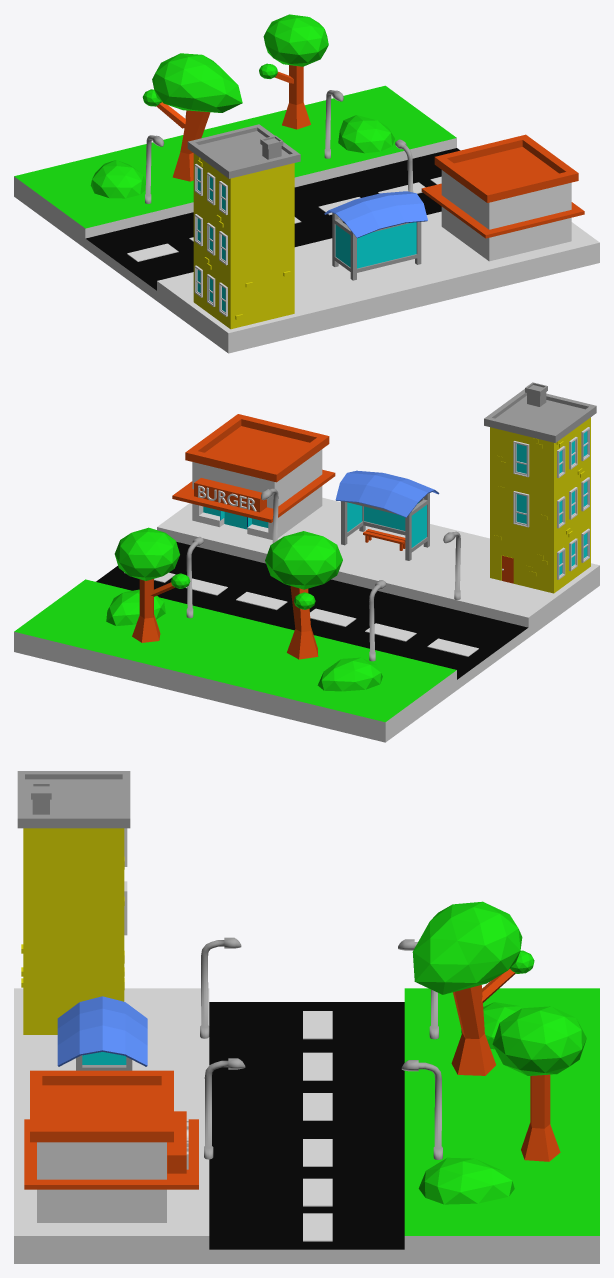
3 renders of one model, top to bottom at view 1: azimuth 30°, elevation 25°; view 2: azimuth 150°, elevation 25°; view 3: azimuth 270°, elevation 25°, orthographic. The views are drawn at different scales.
Parts seen in each view (by area): view 1: Cube.007; view 2: Cube.007, Text.003; view 3: Cube.007.
Part boxes in pixels (box(x1,y1,x2,y2)): Cube.007: box(14, 14, 599, 353); Cube.007: box(14, 382, 599, 742); Text.003: box(198, 485, 256, 511); Cube.007: box(14, 771, 599, 1263).
Bounding box in the file's own units: 200 × 99.3 × 200.
